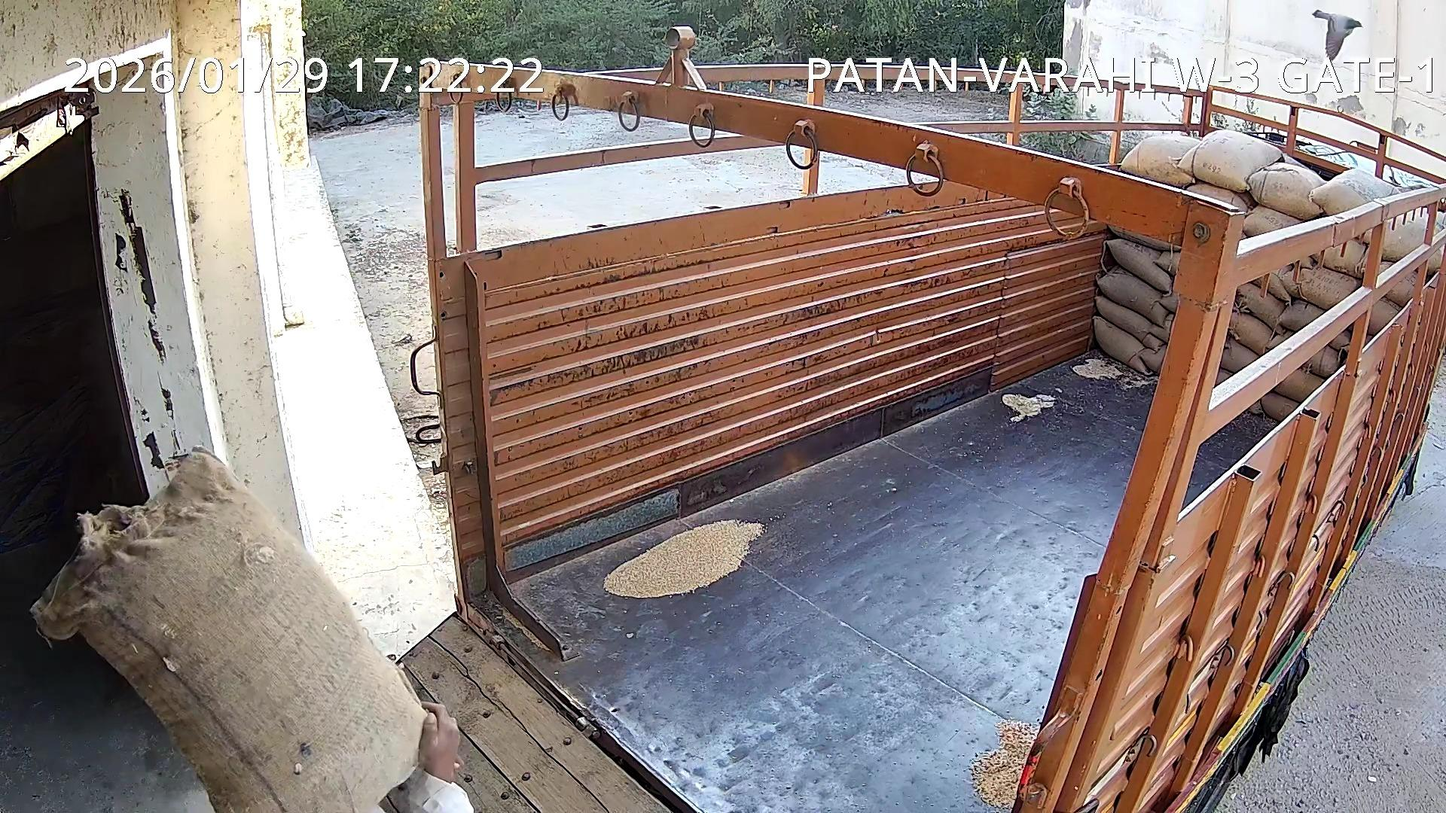Sack: (32, 447, 426, 812)
